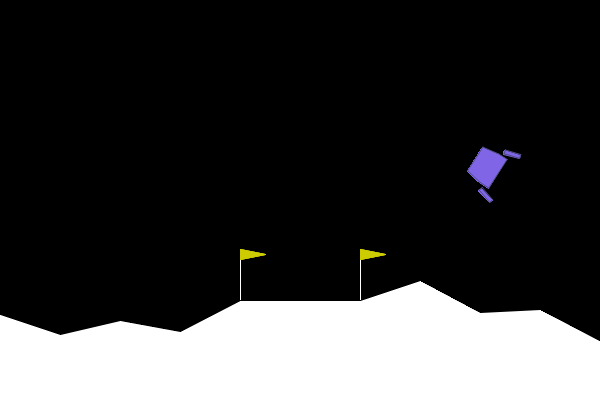lander: (457, 133, 523, 205)
